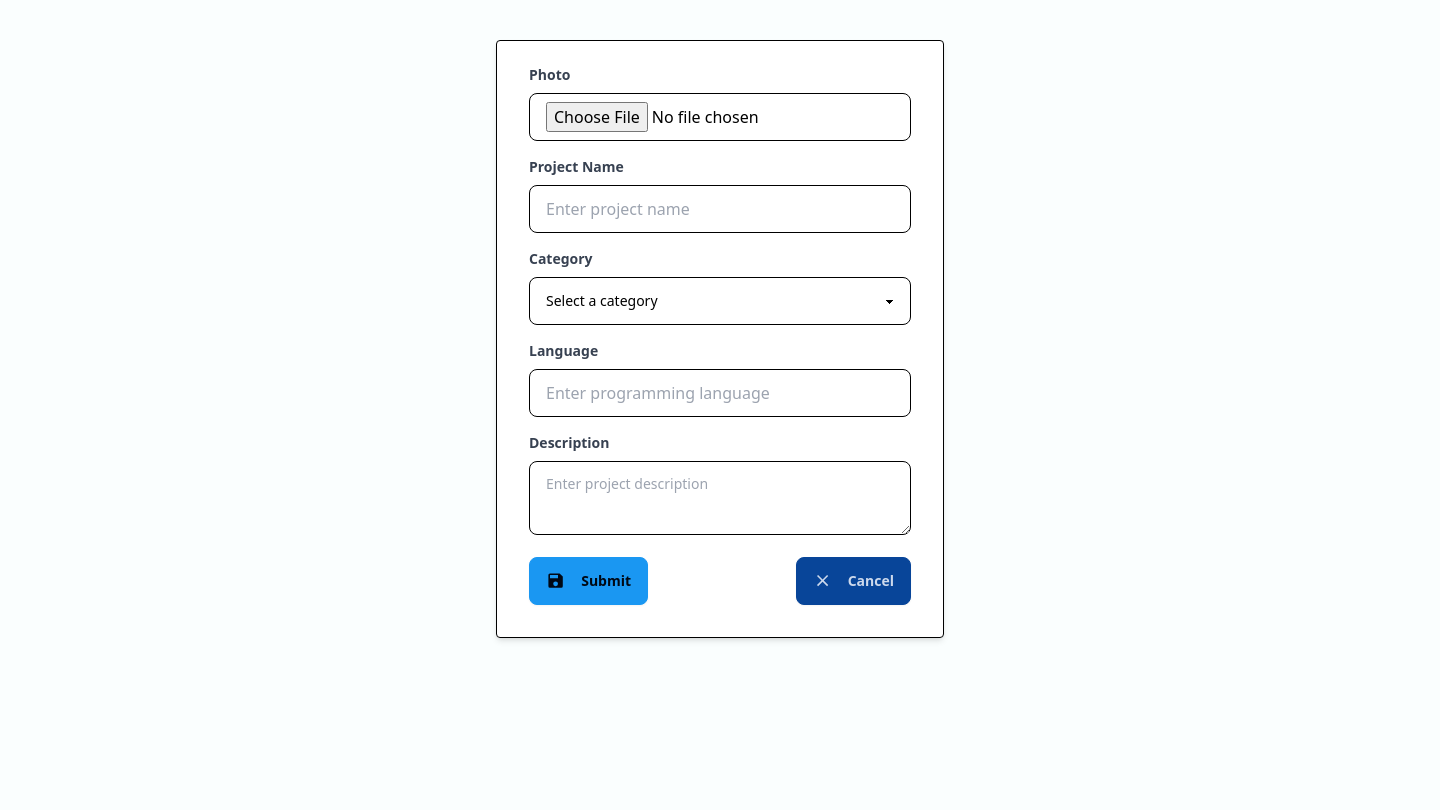
Test case: CreateProject › fails to create project
Type "helo" into the field with test id "project-name" at (720, 209), box [529,185,911,233]
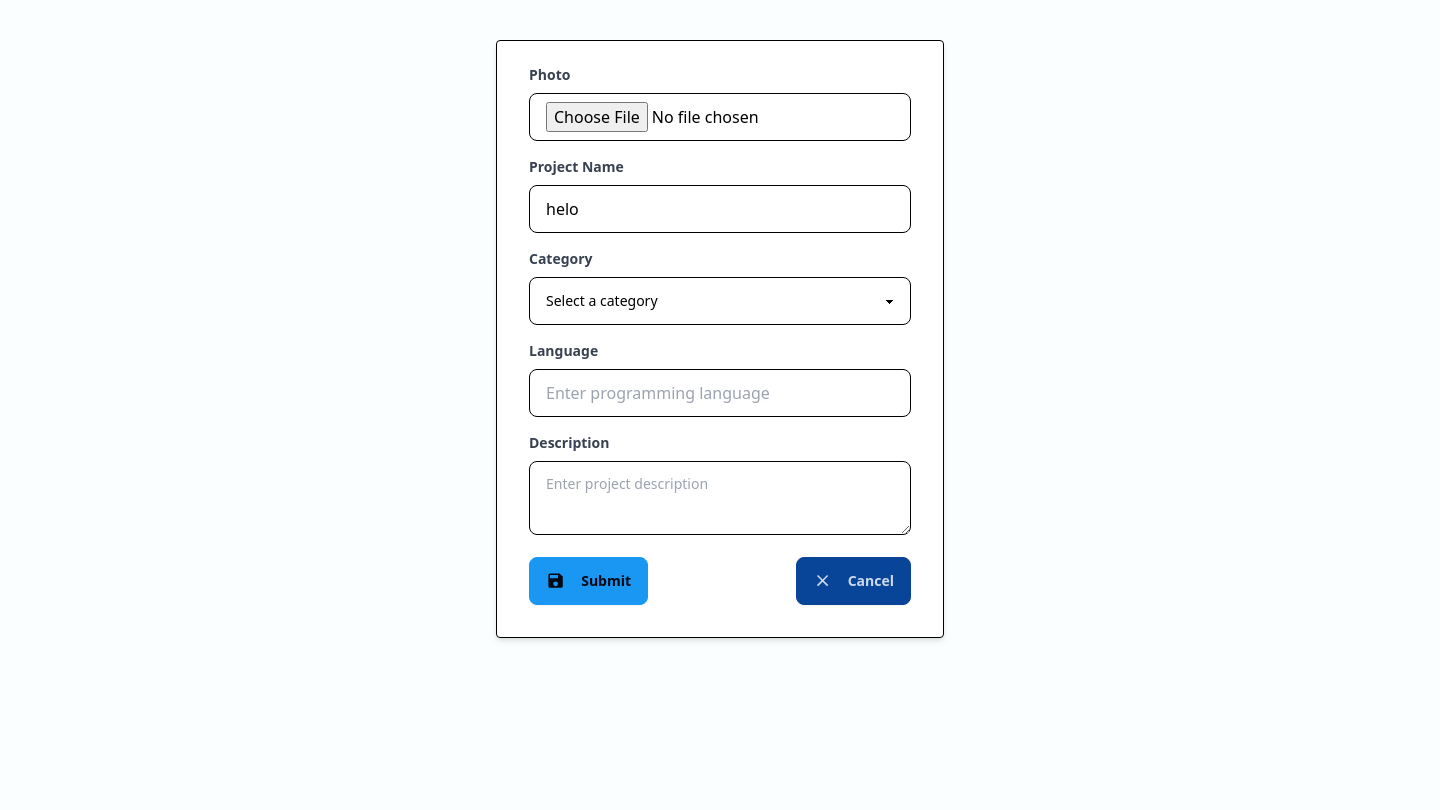
Select "Web Development" in the dropdown with test id "category" at (720, 301), box [529,277,911,325]
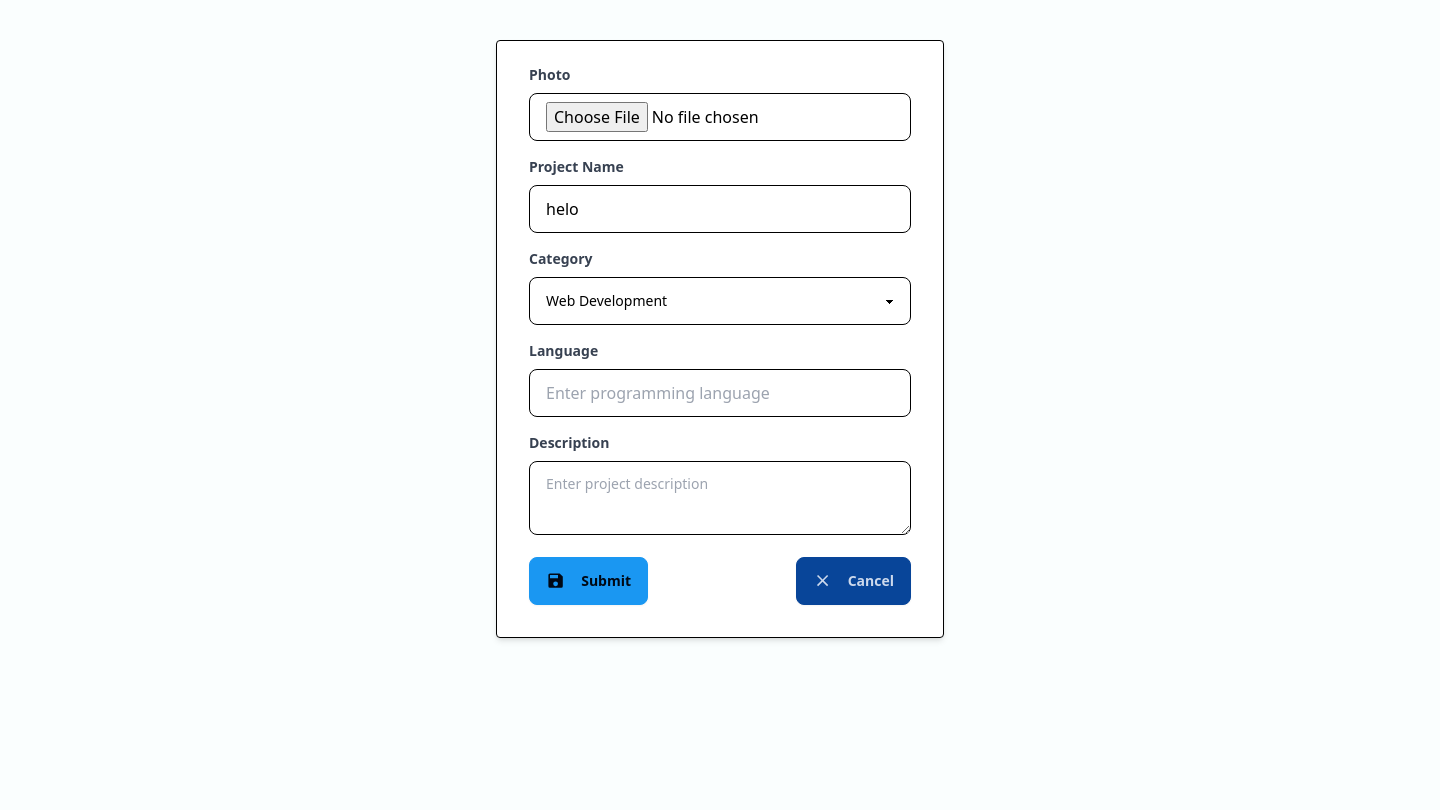
Type "JavaScript" into the field with test id "language" at (720, 393), box [529,369,911,417]
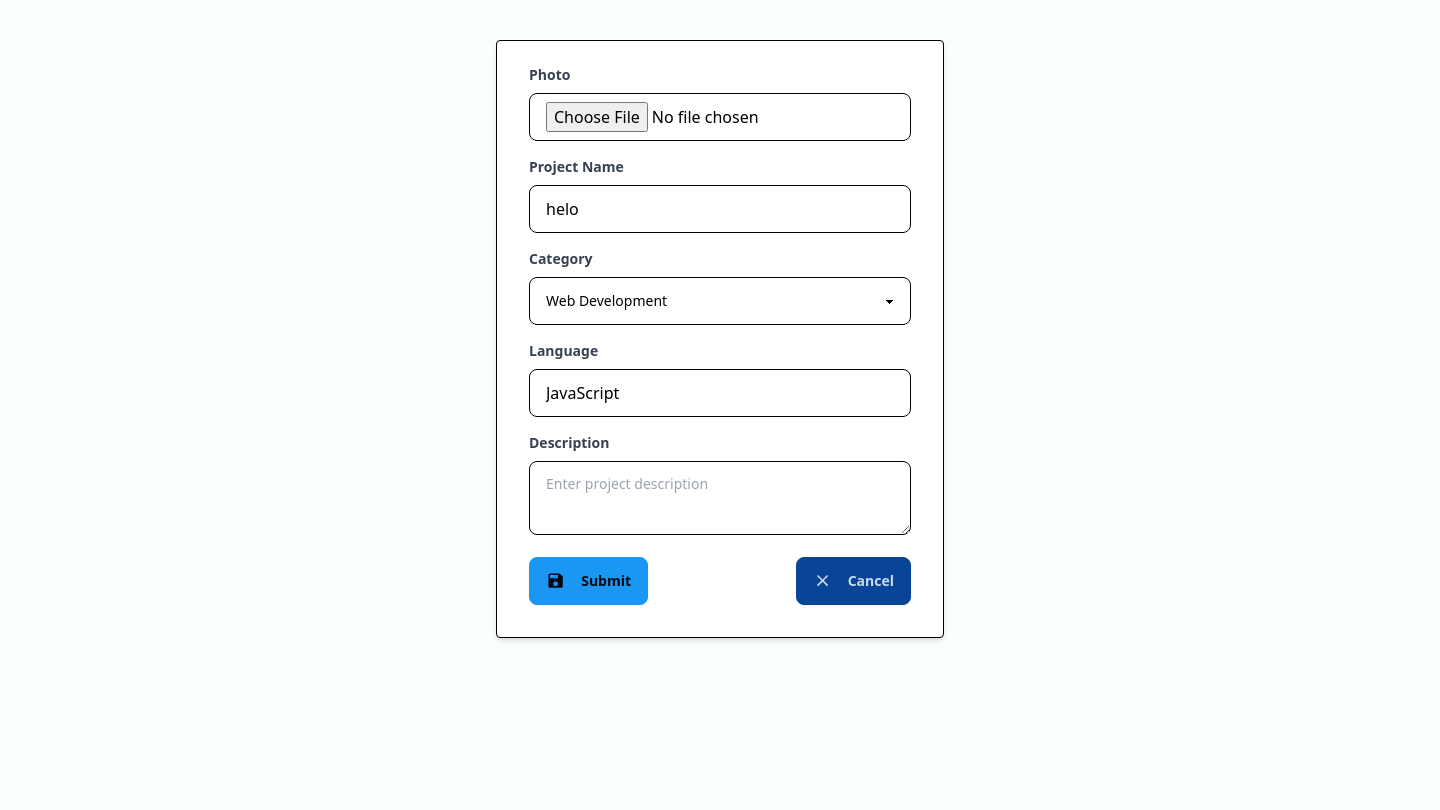
Type "This is a test project." into the text box with test id "description" at (720, 498), box [529,461,911,535]
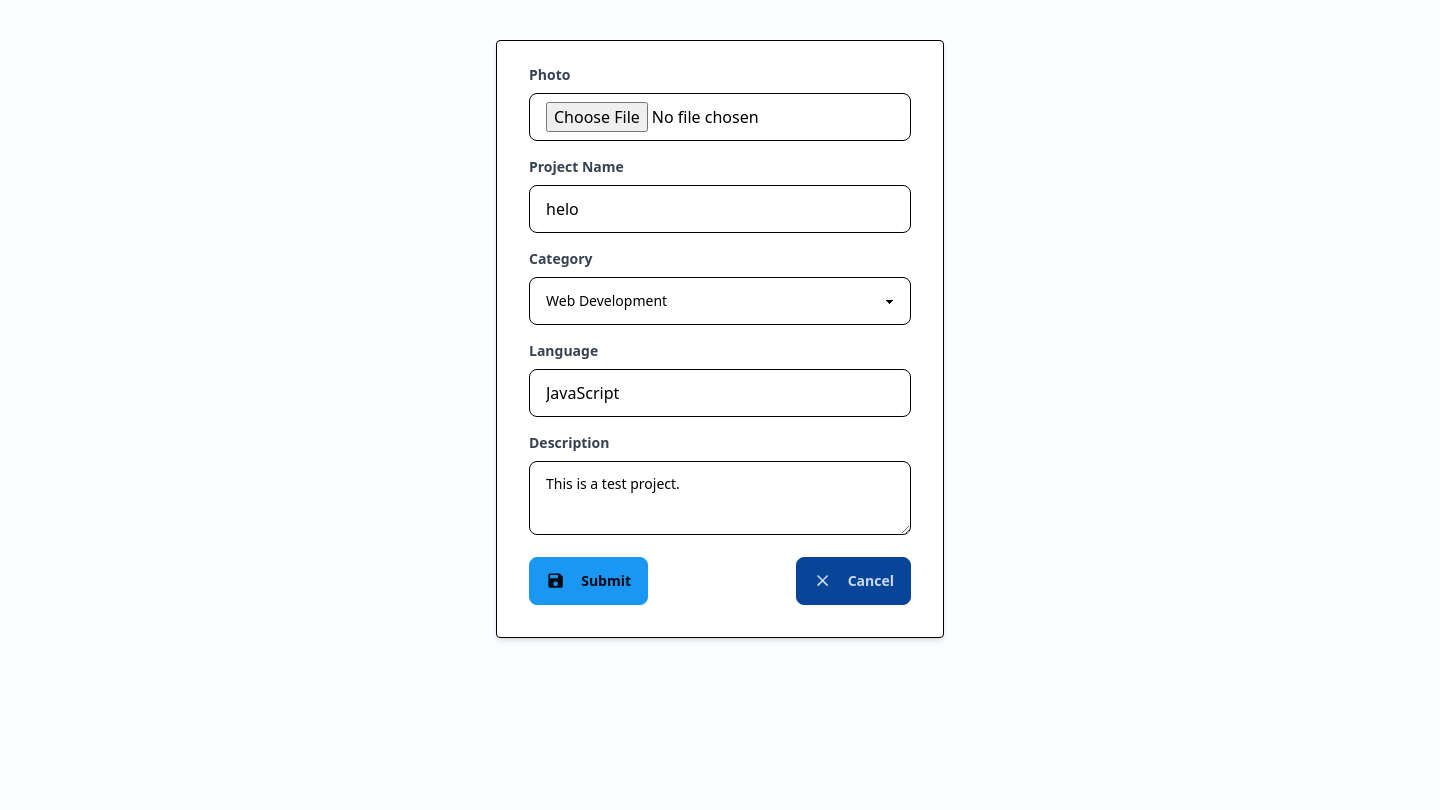
Click the button with test id "submit-button" at (589, 581), box [529,557,648,605]
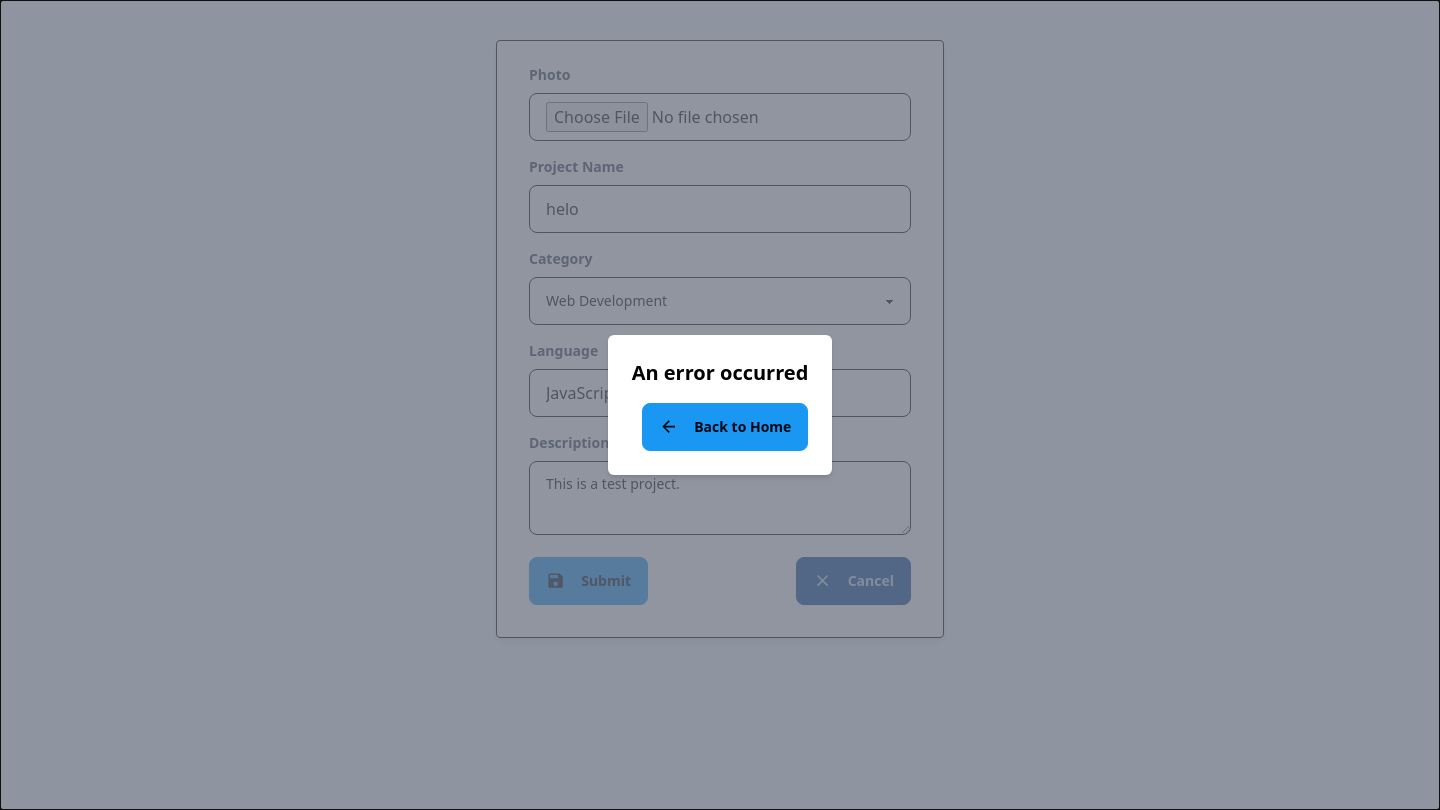
Result: the heading "An error occurred" is shown at [632,359,808,387]
